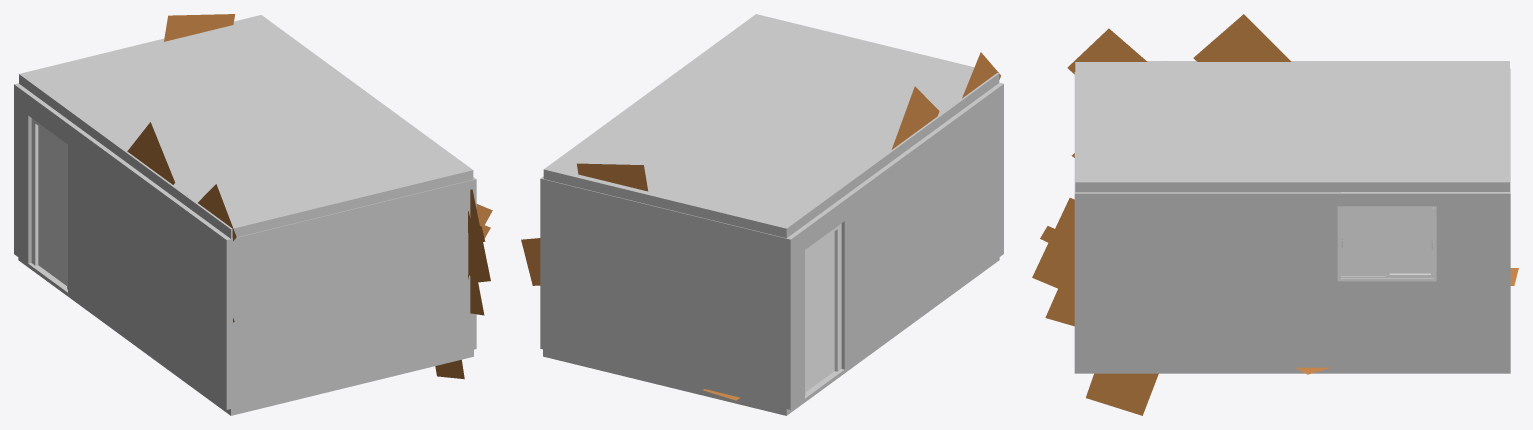
The model's file is FloorPlan21_physics.fbx.
3 views of the same model, side by side, from view 1: azimuth 30°, elevation 25°; view 2: azimuth 150°, elevation 25°; view 3: azimuth 270°, elevation 25° (orthographic). The views are drawn at different scales.
Parts seen in each view (by area): view 1: Room.035, Ceiling.004, Door.001, Floor.004, Decals.016, Decals.017, Decals.015, DoorFrame.001; view 2: Room.035, Ceiling.004, Door.001, Floor.004, Decals.016, Decals.017, DoorFrame.001; view 3: Room.035, Ceiling.004, Window.R.001, Decals.015, Decals.017, Floor.004, WindowFrame, Window.R.
Part boxes in pixels (x1,y1,x2,y2): Room.035: (14, 83, 476, 409); Ceiling.004: (19, 15, 473, 238); Door.001: (38, 126, 66, 285); Floor.004: (18, 257, 473, 415); Decals.016: (164, 14, 492, 279); Decals.017: (127, 122, 236, 322); Decals.015: (435, 189, 490, 379); DoorFrame.001: (31, 118, 67, 289); Room.035: (540, 82, 1003, 409); Ceiling.004: (543, 14, 999, 238); Door.001: (806, 231, 834, 391); Floor.004: (543, 257, 999, 415); Decals.016: (521, 163, 648, 285); Decals.017: (891, 52, 1000, 149); DoorFrame.001: (805, 223, 841, 395); Room.035: (1074, 68, 1510, 367); Ceiling.004: (1075, 61, 1509, 192); Window.R.001: (1342, 209, 1430, 275); Decals.015: (1032, 198, 1158, 415); Decals.017: (1067, 14, 1291, 157); Floor.004: (1074, 367, 1510, 373); WindowFrame: (1337, 206, 1436, 281); Window.R: (1385, 208, 1433, 277).
Bounding box in the file's own units: 399 × 386 × 601.
